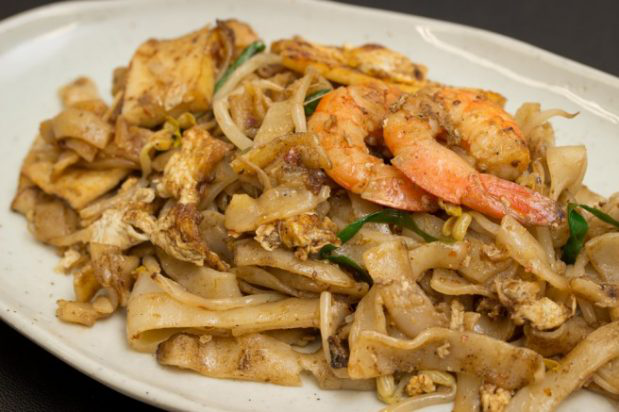Char Kway Teow: (19, 35, 618, 399)
